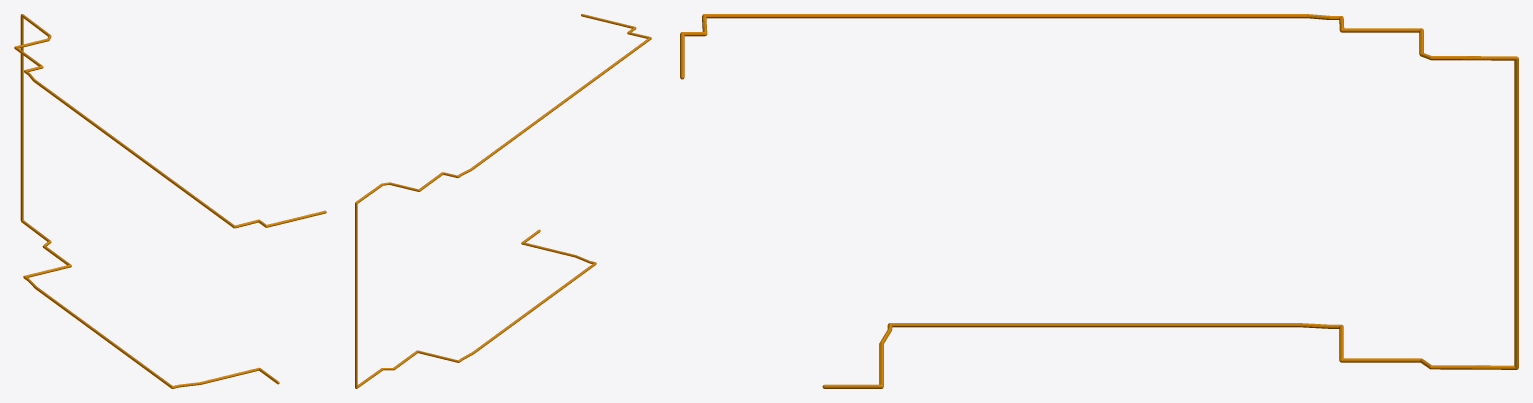
3 renders of one model, left to right at view 1: azimuth 30°, elevation 25°; view 2: azimuth 150°, elevation 25°; view 3: azimuth 270°, elevation 25°, orthographic. The views are drawn at different scales.
Bounding box in the file's own units: 662 × 1520 × 3687.
